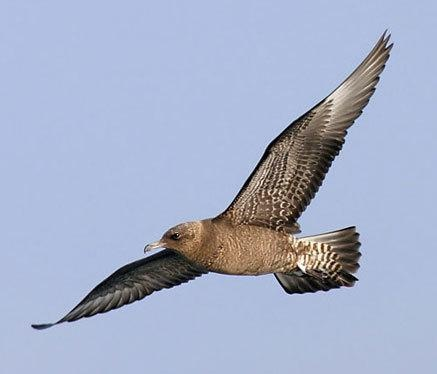bird: (29, 32, 394, 332)
